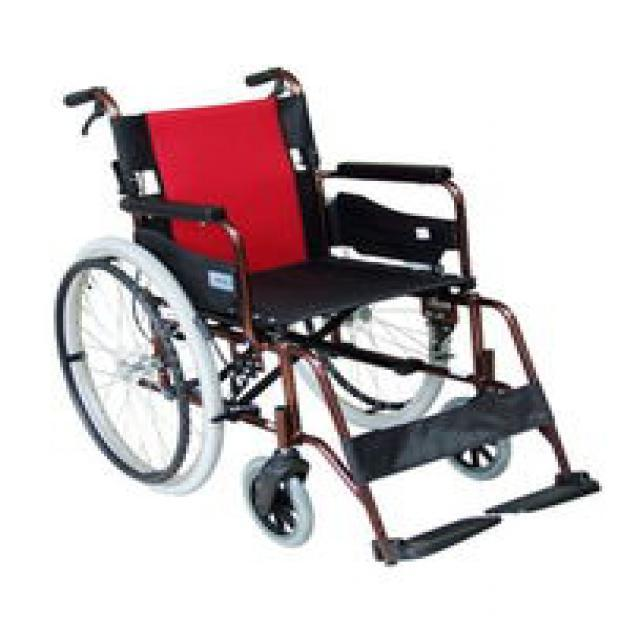wheelchair: (38, 62, 622, 567)
